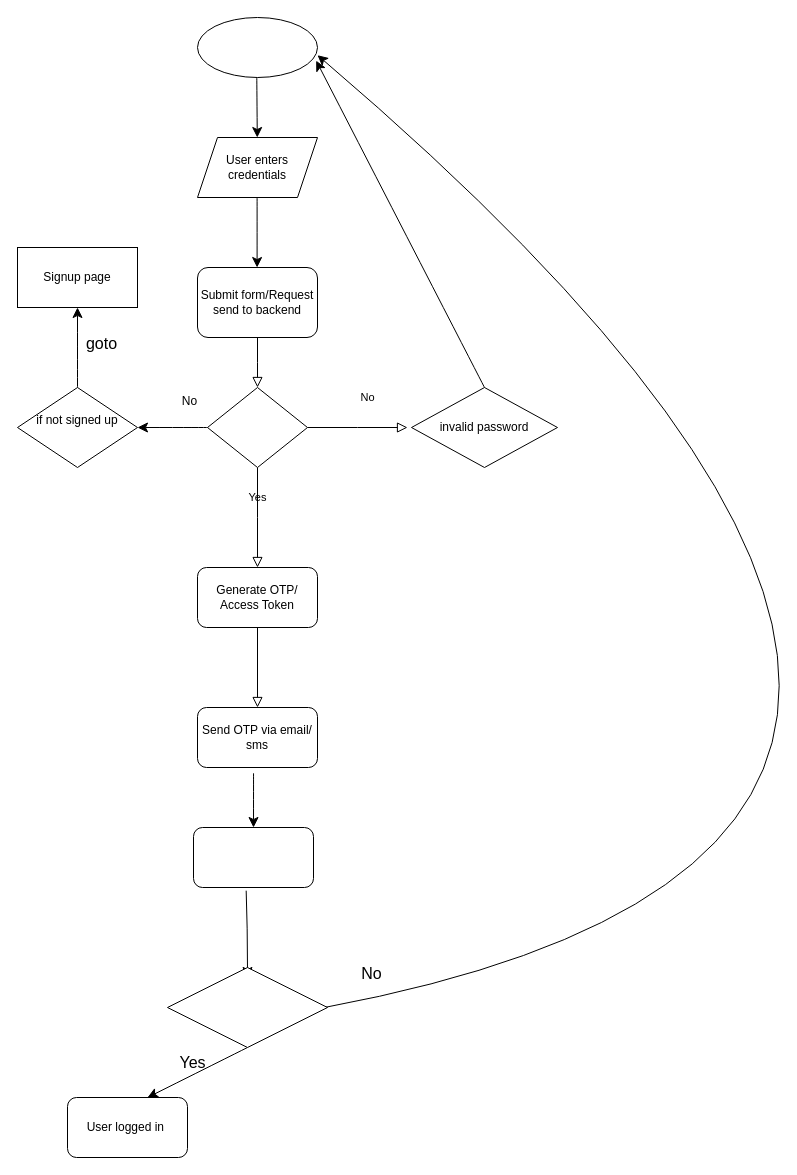
Some shapes in this 797 by 1175 pixel diagram are drawn without their labels. Here are the shapes that lost their labels. From the top down, the centre of each, then its label:
point 257,47: User goes to login page
point 257,427: Is the credentials valid??
point 253,857: User enters OTP
point 247,1007: valid OTP?
